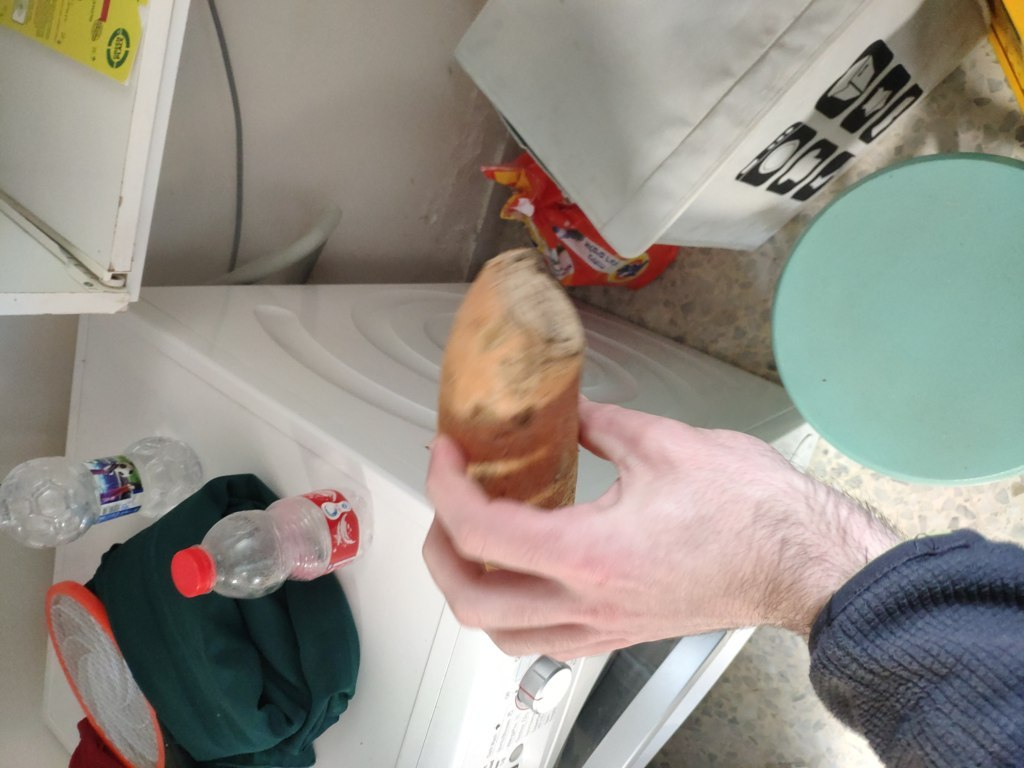Sweet Potato: (435, 307, 578, 522)
